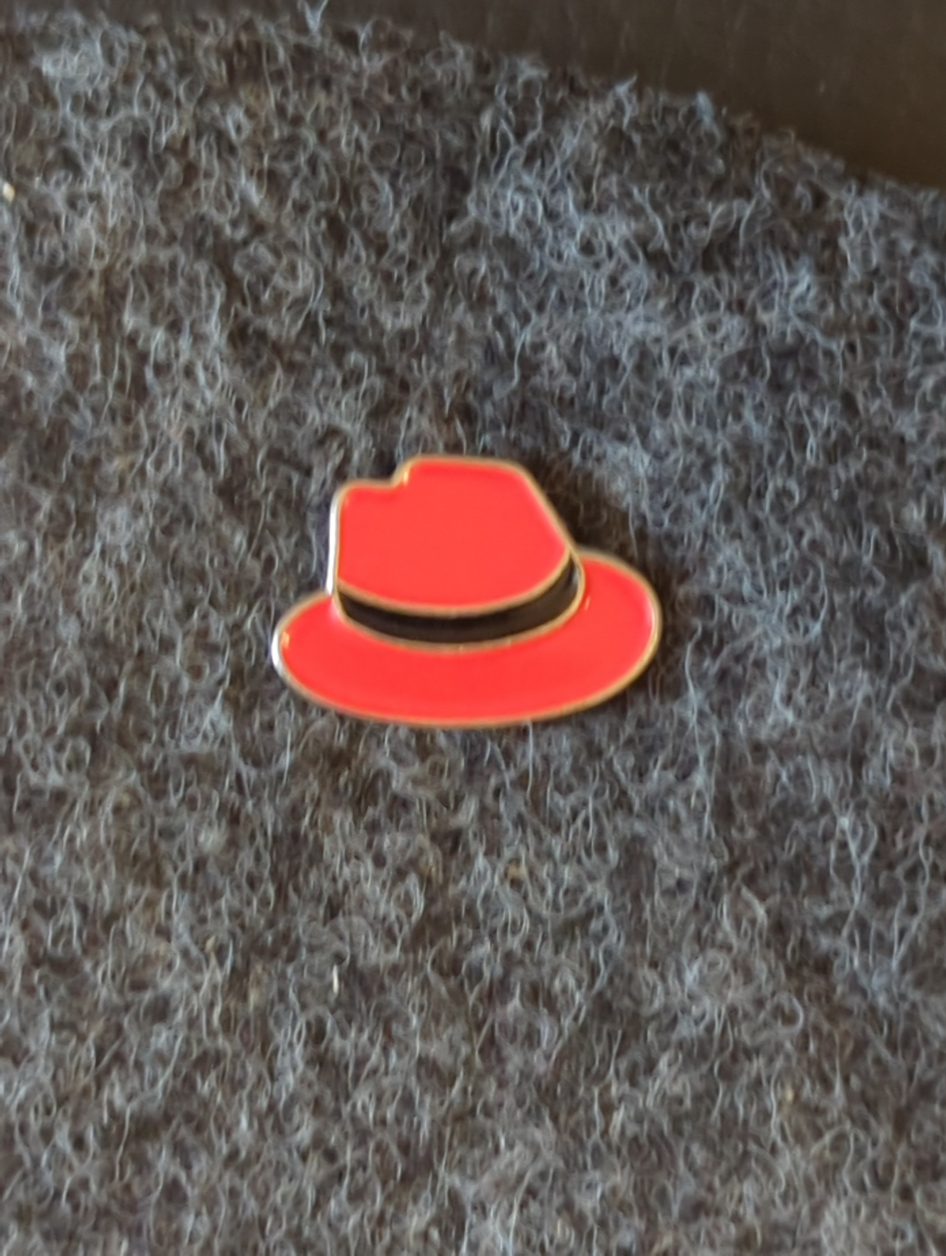Red-Hat: (176, 344, 858, 874)
